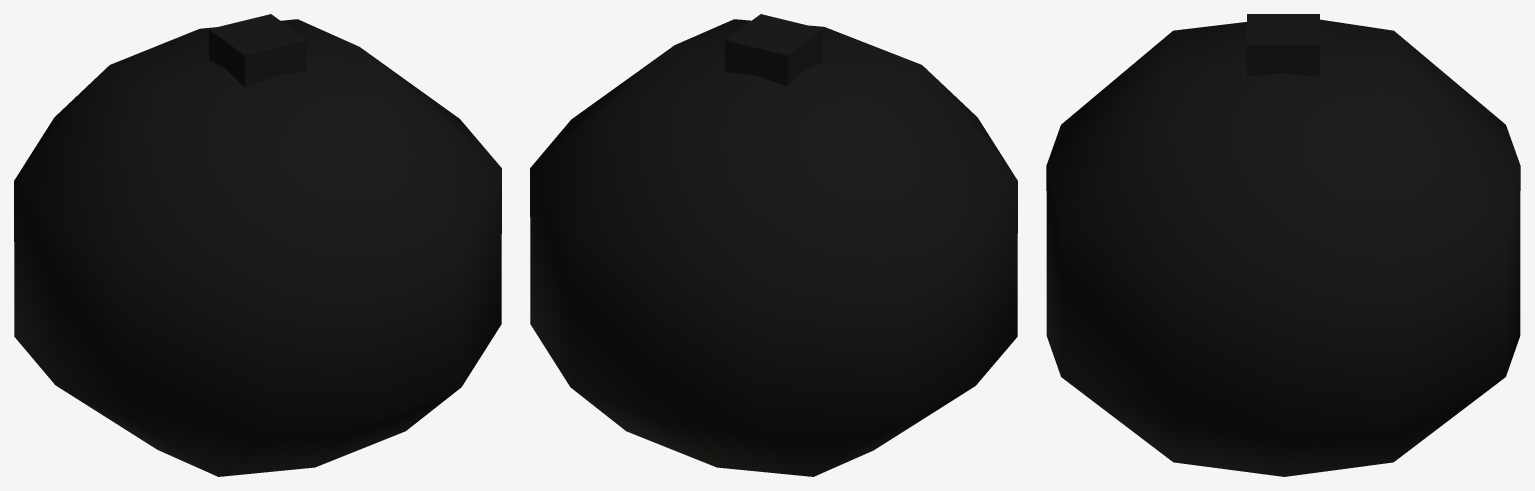
Rendered from orange.fbx.
3 renders of one model, left to right at view 1: azimuth 30°, elevation 25°; view 2: azimuth 150°, elevation 25°; view 3: azimuth 270°, elevation 25°, orthographic.
Visible parts, largest first — view 1: pCube14; view 2: pCube14; view 3: pCube14.
Boxes of the visible parts, bbox=[...] form: pCube14: bbox=[14, 14, 501, 476]; pCube14: bbox=[530, 14, 1017, 476]; pCube14: bbox=[1046, 14, 1520, 476].
Bounding box in the file's own units: 1.15 × 1.09 × 1.14.
